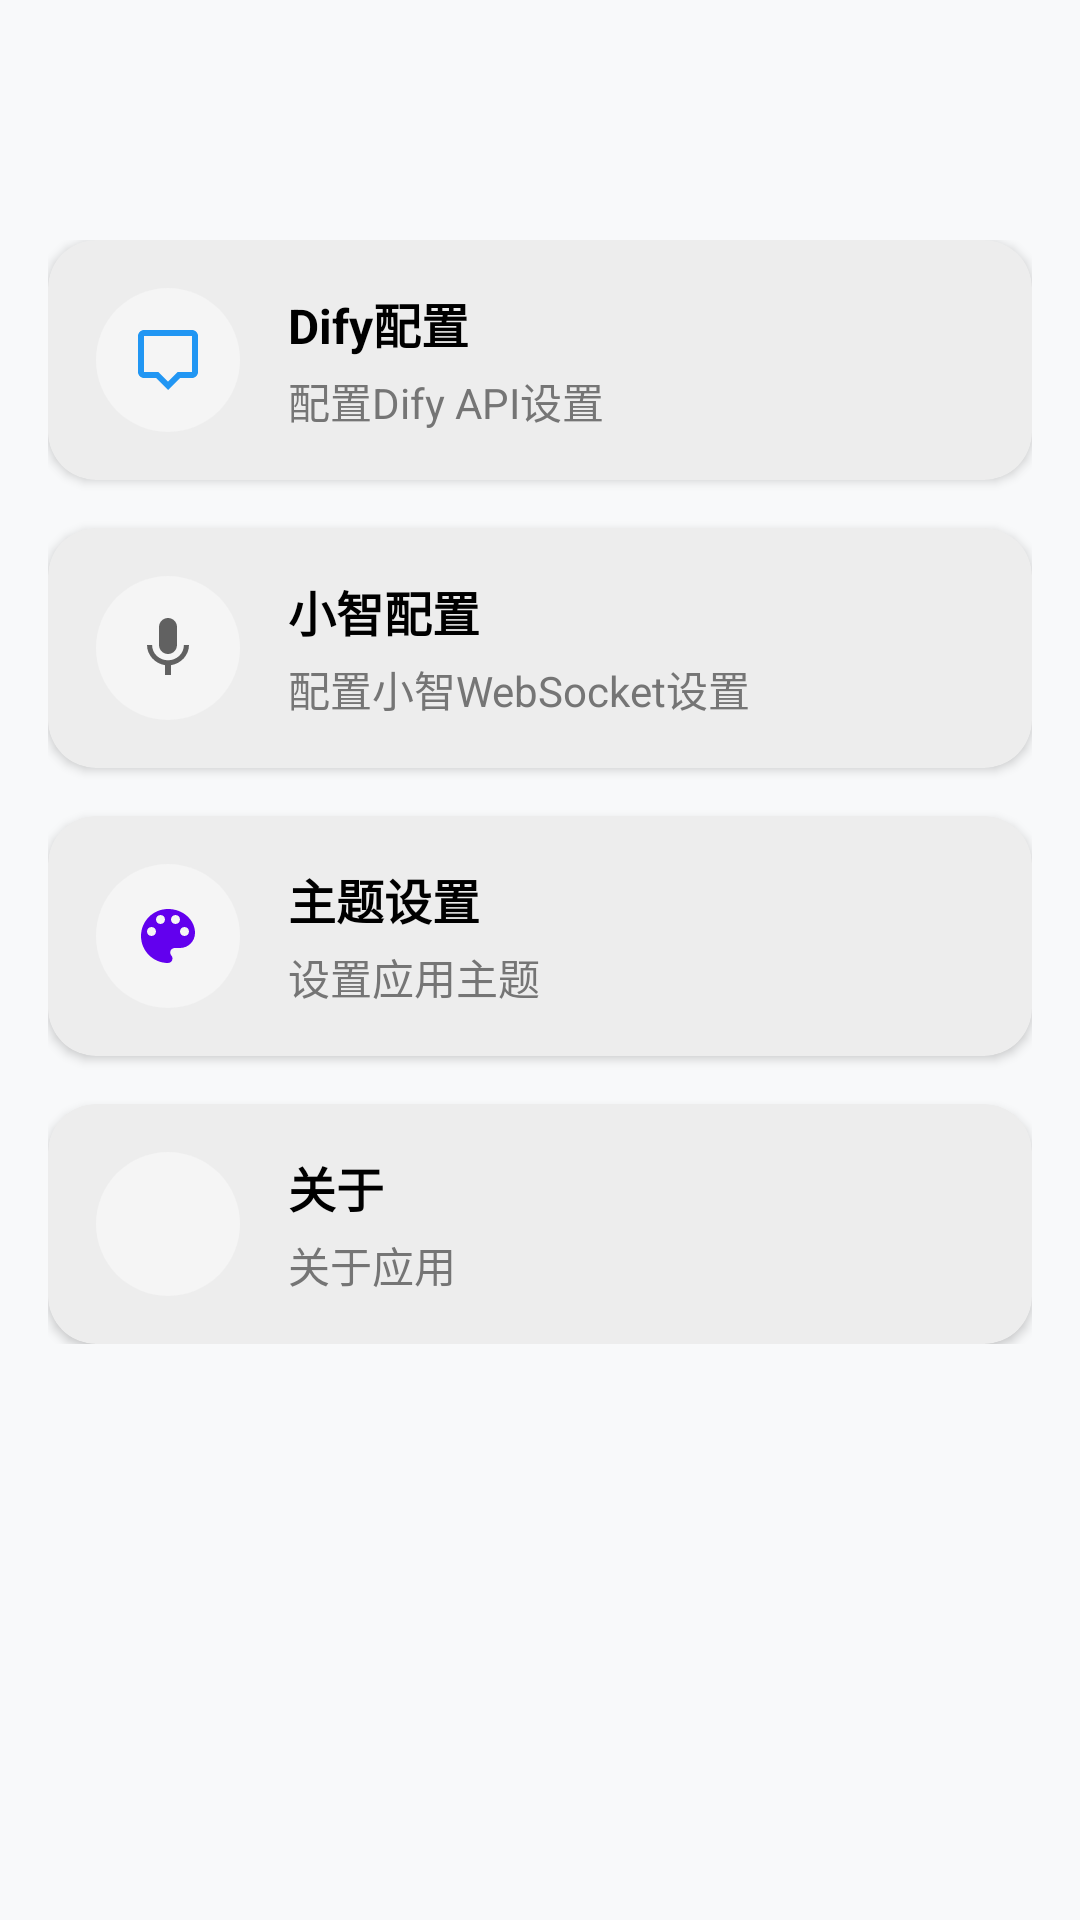

Where to tap for icons on this 1080*1920 app screen, as (x,y):
chat bubble: (168,360)
mic: (168,646)
palette: (168,936)
